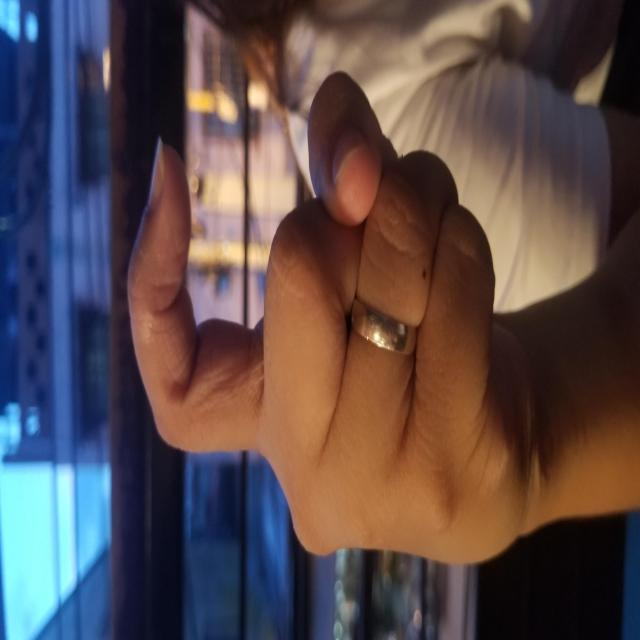X: (69, 125, 571, 525)
